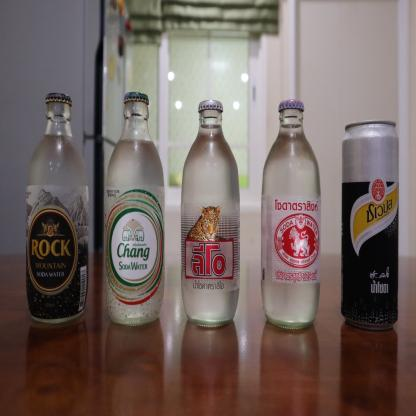Can: (19, 82, 95, 330), (99, 85, 171, 335), (254, 95, 326, 339), (178, 94, 245, 338)
